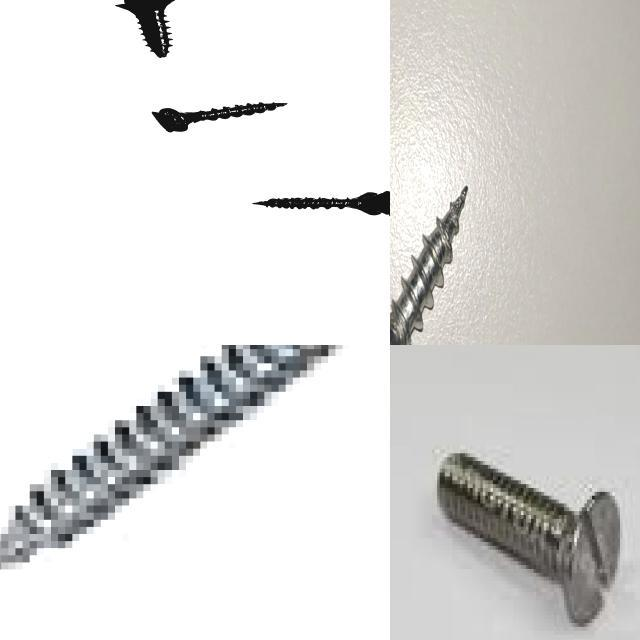Screw: (0, 345, 343, 568), (440, 453, 625, 631), (390, 186, 468, 345), (154, 103, 289, 132), (117, 0, 177, 57), (256, 192, 390, 215)
